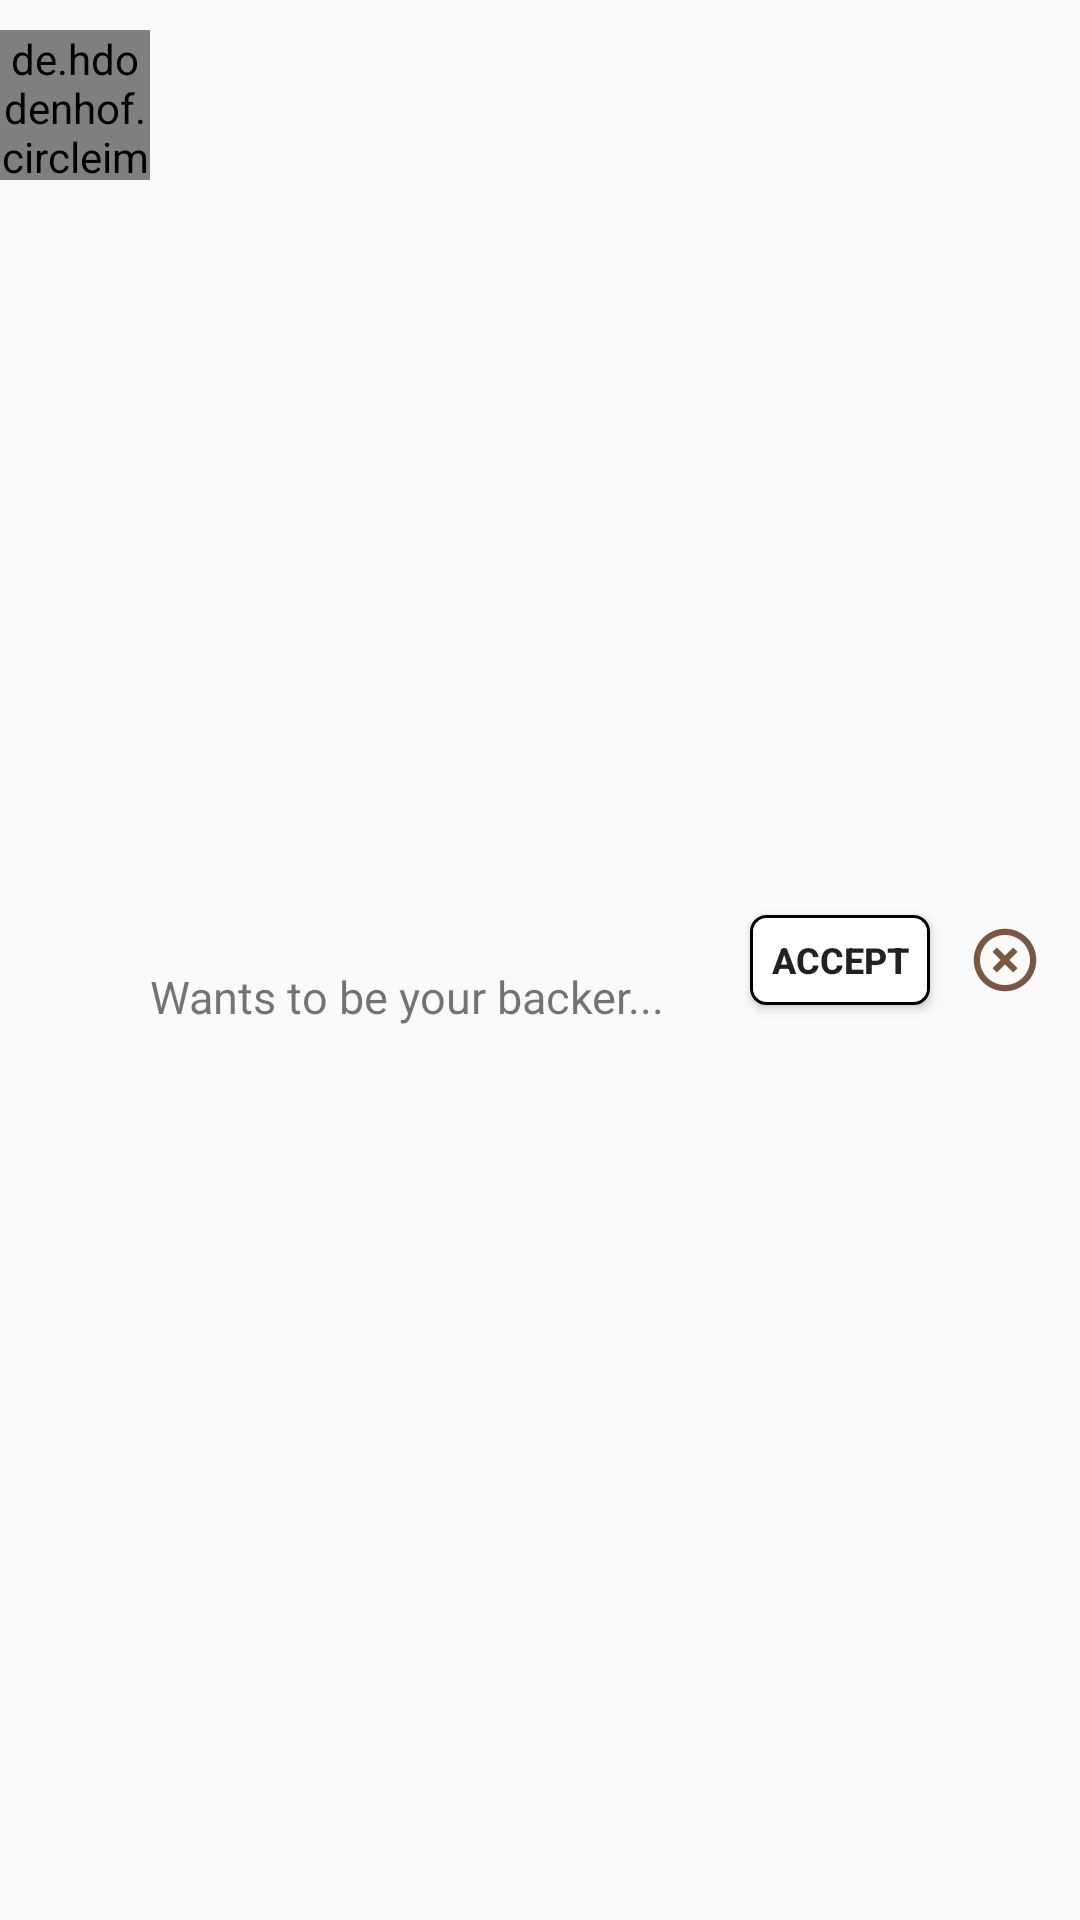

Icon bounding boxes for this 1080px×1920px phone screenshot, format [x1=x1, y1=y1, x2=x2, y2=y2]:
cancelcross: [x1=973, y1=928, x2=1037, y2=992]
